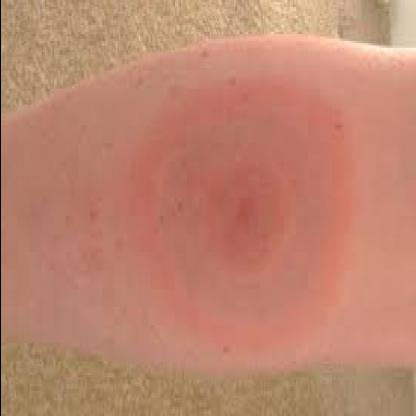Tick: (119, 73, 362, 364)
